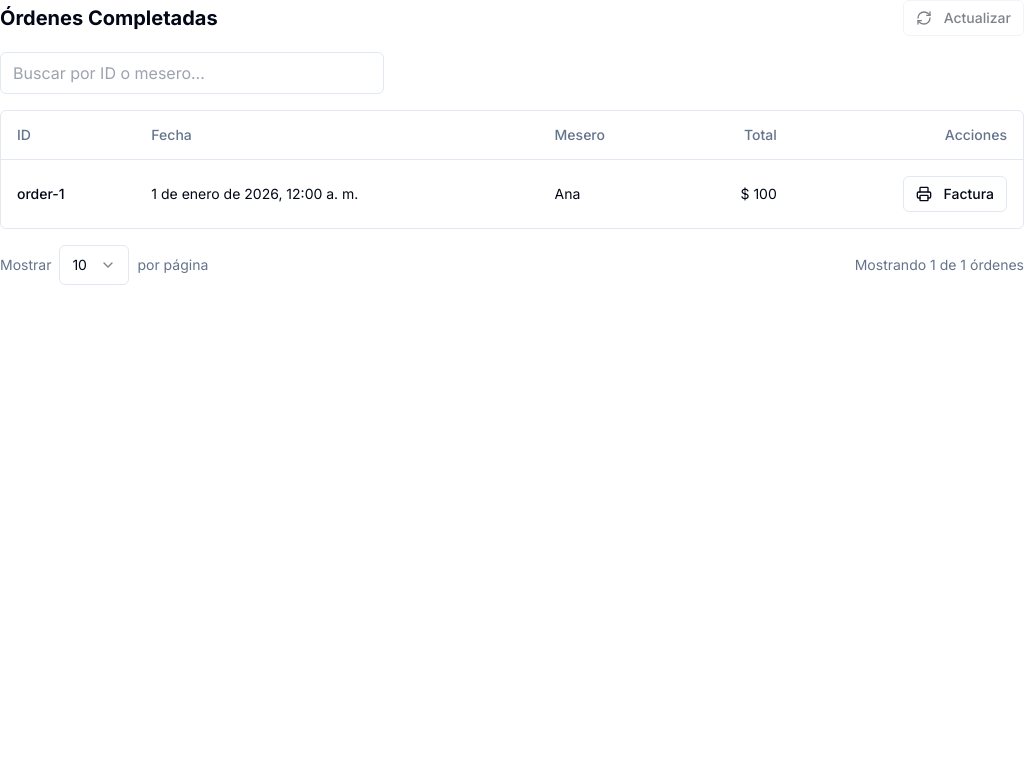
it: D6 fan-out containment — Store Writes Must Not Fan Out To Unaffected Consumers › Rule A site — CompletedOrdersTable.handlePrintInvoice (no subscription) › does not re-render when a table patch is applied, and still resolves the correct table via getState()
This screenshot has width=1024, height=768.
Step 1. Click the button "Factura" → (955, 194), box [902,176,1007,212]
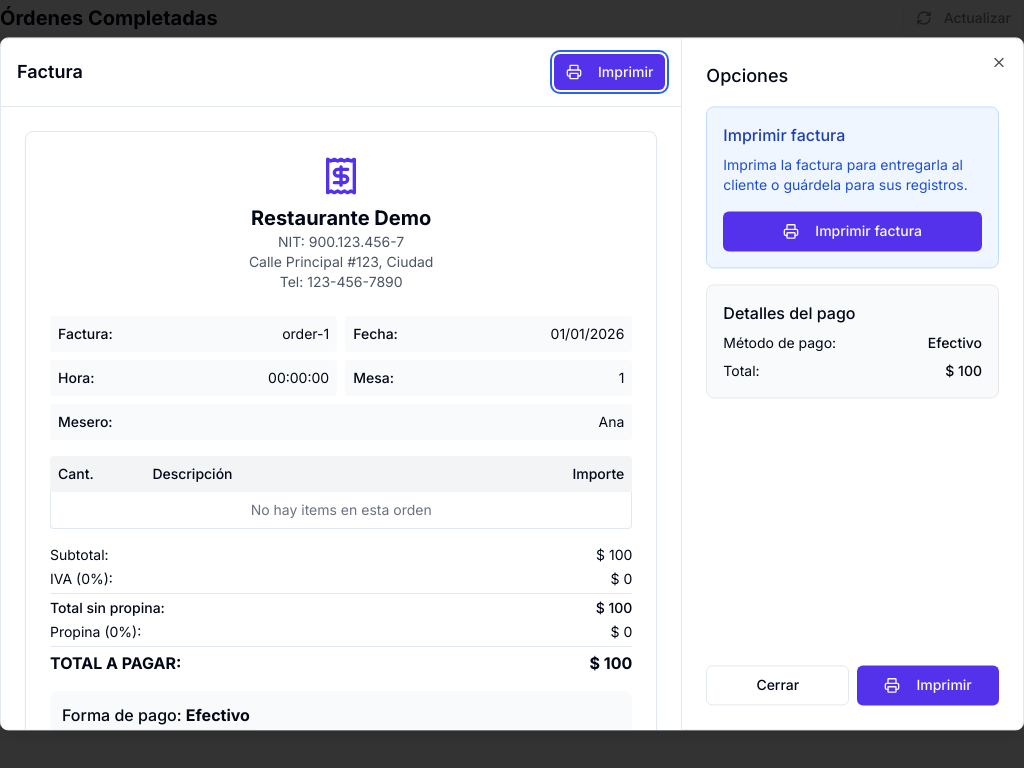
Check: the text "Mesa:" is shown, box [353,369,394,386]
Check: the text "1" is shown, box [619,368,624,388]
